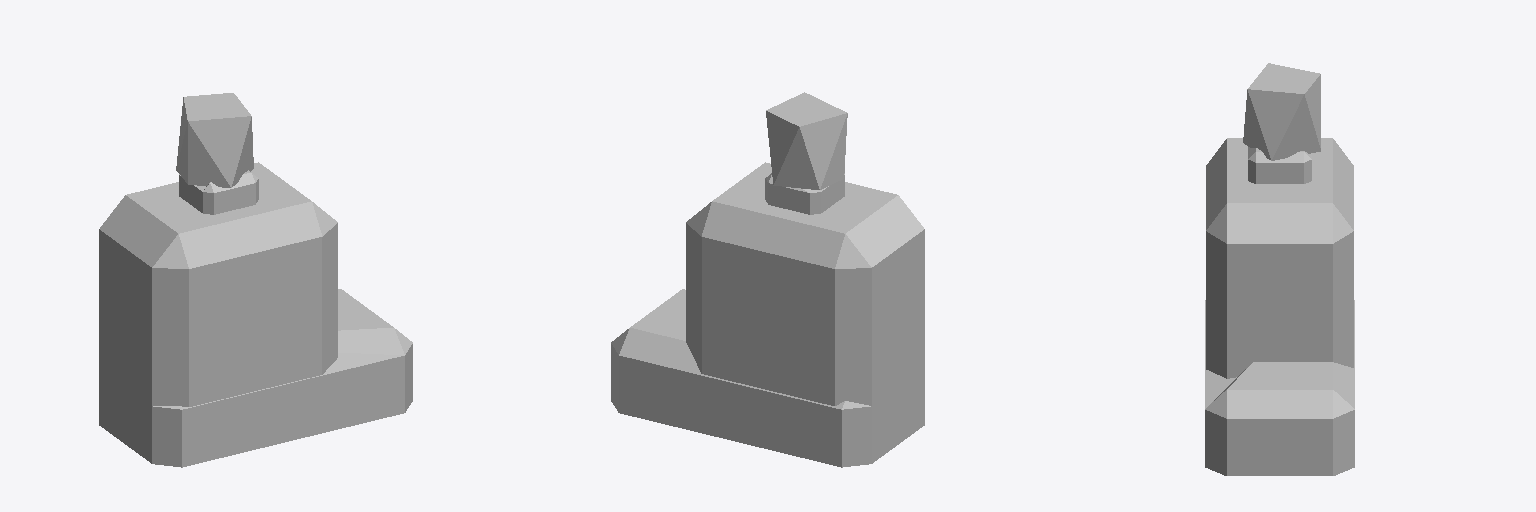
The model's file is SpeedPotion.obj.
The picture shows the model from 3 angles: view 1: azimuth 30°, elevation 25°; view 2: azimuth 150°, elevation 25°; view 3: azimuth 270°, elevation 25°; orthographic projection.
Parts seen in each view (by area): view 1: Cylinder; view 2: Cylinder; view 3: Cylinder.
Part boxes in pixels (x1,y1,x2,y2): Cylinder: (99, 93, 412, 467); Cylinder: (611, 92, 924, 467); Cylinder: (1205, 63, 1354, 475).
Size of the model in its own units: 2.8 by 3.22 by 1.4.